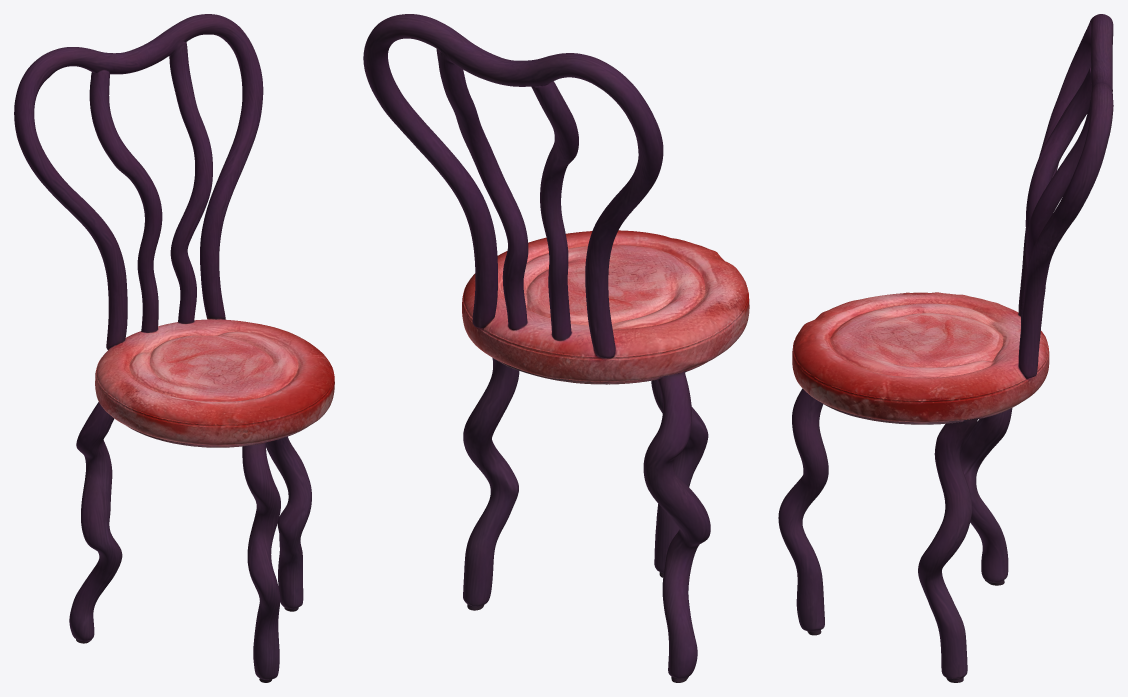
Rendered from chair-v1.glb.
3 renders of one model, left to right at view 1: azimuth 30°, elevation 25°; view 2: azimuth 150°, elevation 25°; view 3: azimuth 270°, elevation 25°, orthographic. The views are drawn at different scales.
Parts seen in each view (by area): view 1: vizcom_node_0; view 2: vizcom_node_0; view 3: vizcom_node_0.
Part boxes in pixels (bbox=[...]): vizcom_node_0: bbox=[14, 14, 334, 682]; vizcom_node_0: bbox=[363, 14, 749, 682]; vizcom_node_0: bbox=[778, 14, 1113, 682].
Size of the model in its own units: 0.8784 by 1.9 by 0.9952.
Materials: 1 (1 with a texture image).
